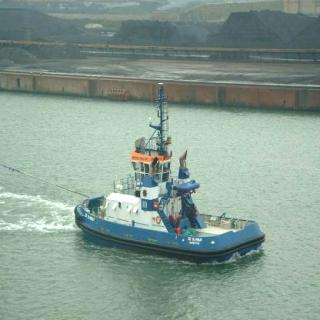Tug Boat: (77, 115, 261, 262)
